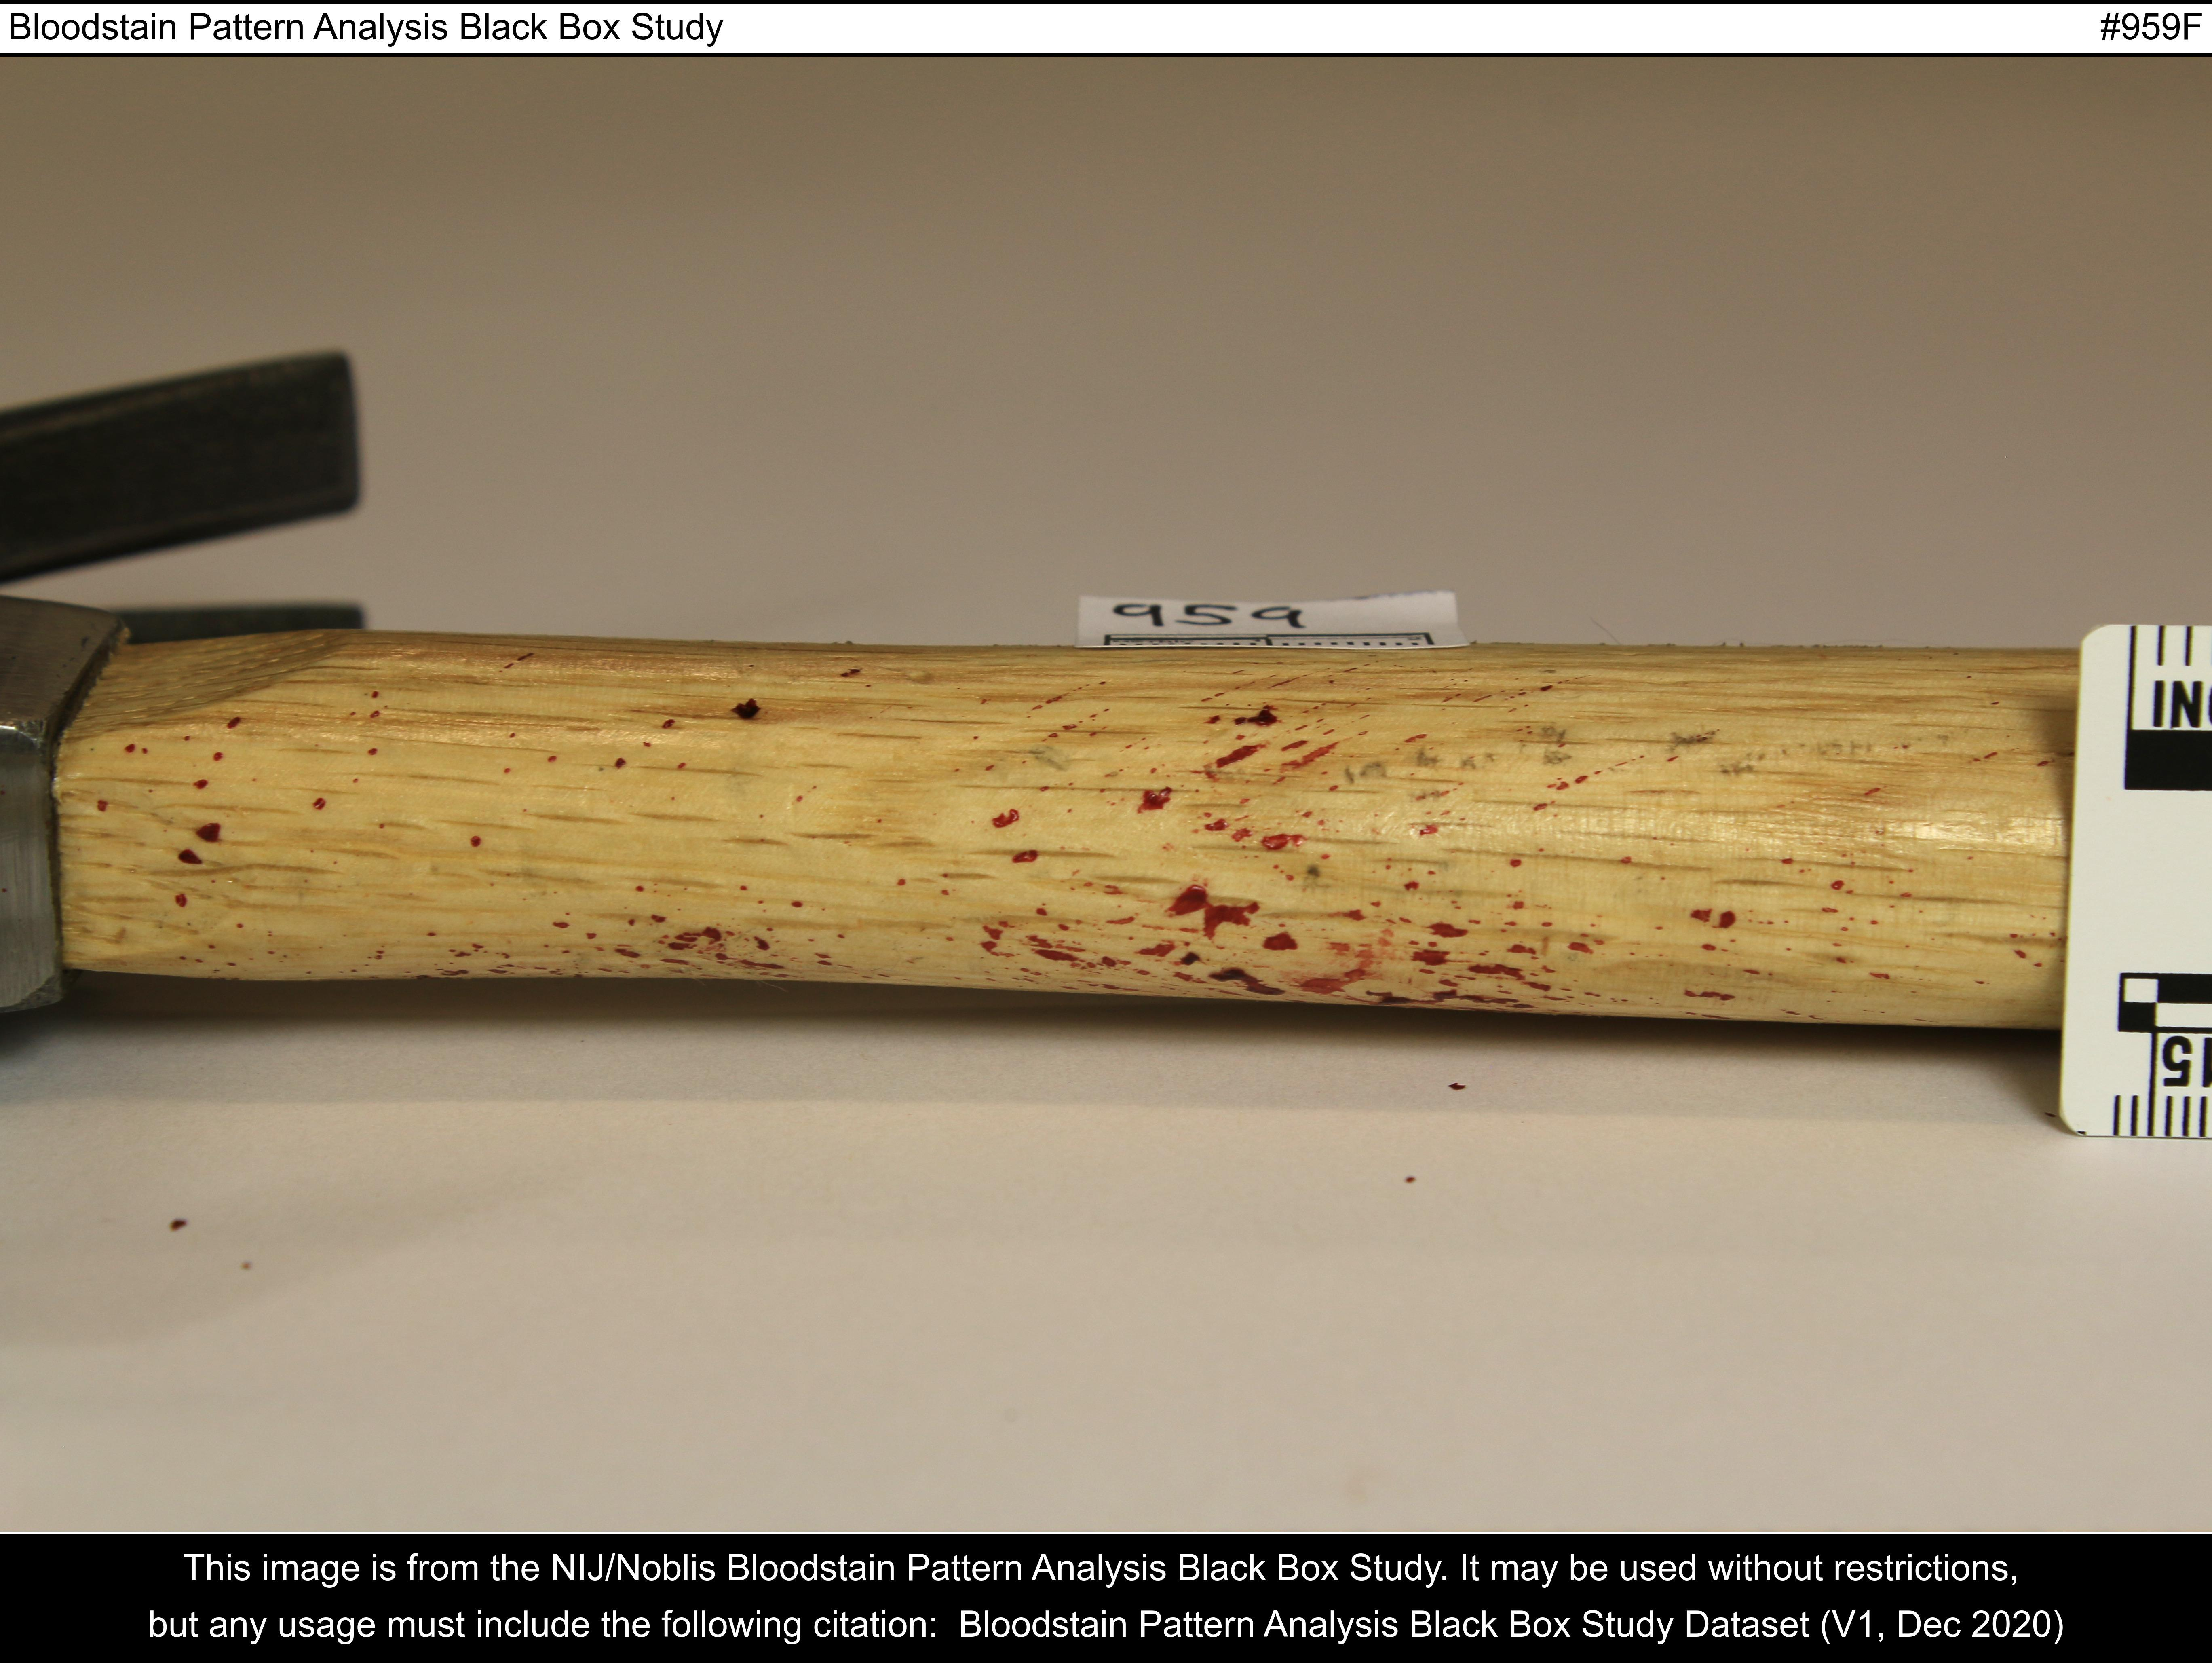Impact: (70, 639, 1889, 1036)
